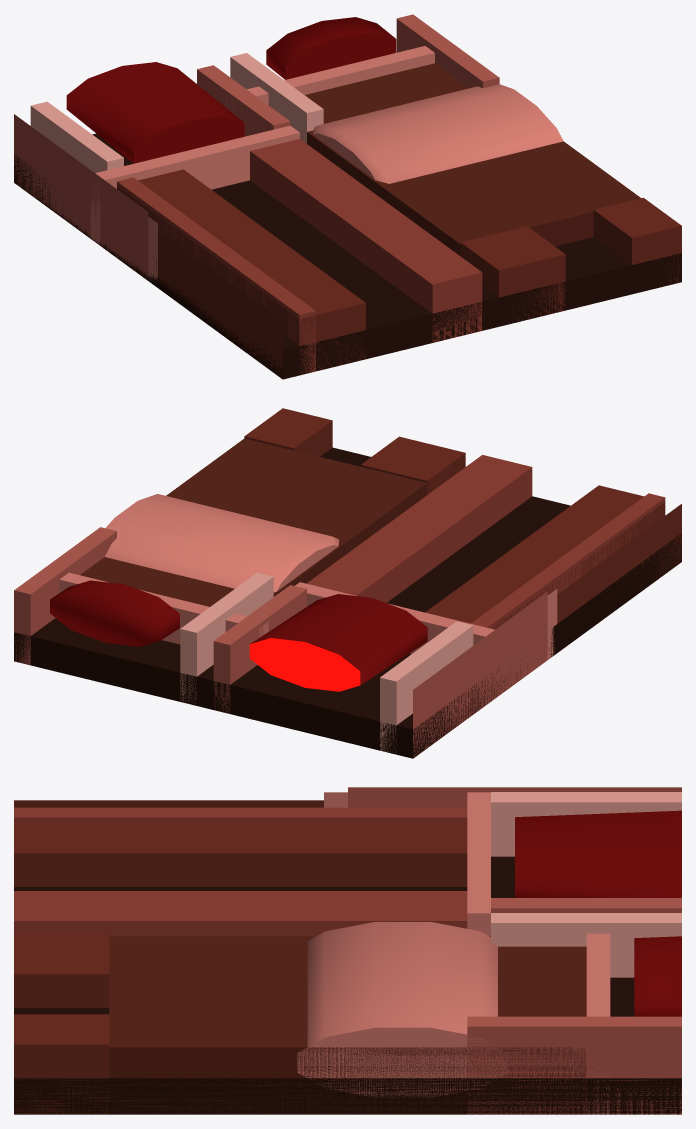
File: newshf-193.glb
The picture shows the model from 3 angles, top to bottom: view 1: azimuth 30°, elevation 25°; view 2: azimuth 150°, elevation 25°; view 3: azimuth 270°, elevation 25°; orthographic projection. The views are drawn at different scales.
Parts seen in each view (by area): view 1: newshf-193; view 2: newshf-193; view 3: newshf-193.
Part boxes in pixels (x1=…): newshf-193: x1=14, y1=14, x2=681, y2=379; newshf-193: x1=14, y1=408, x2=681, y2=758; newshf-193: x1=14, y1=787, x2=681, y2=1114.
Bounding box in the file's own units: 2 × 0.4332 × 2.33.
